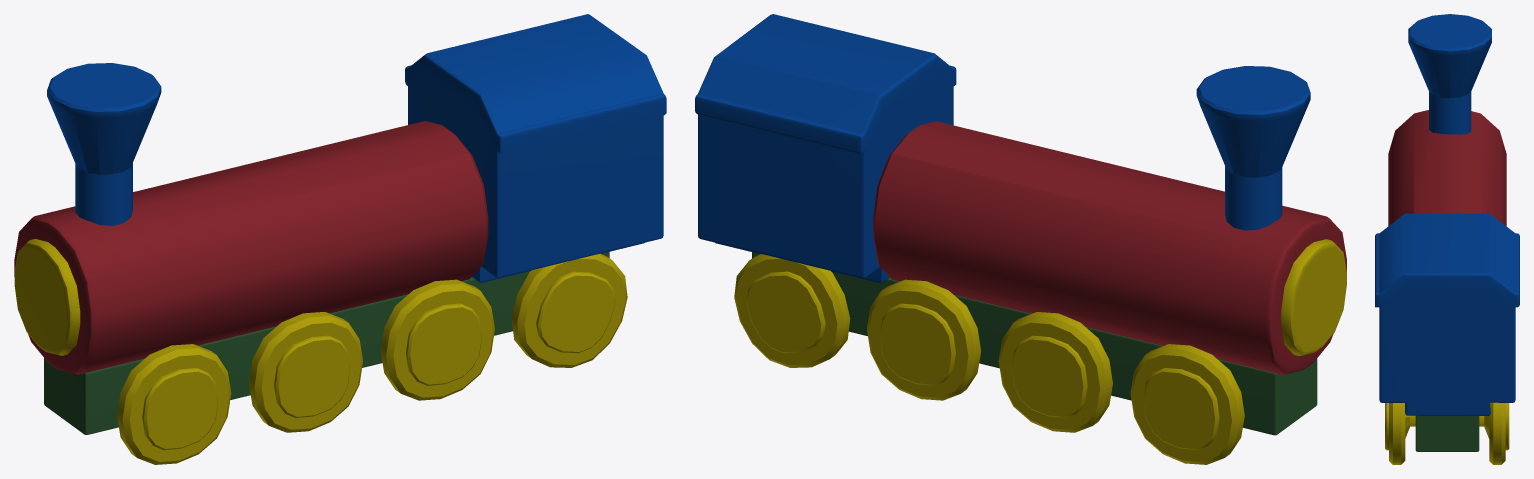
Rendered from toy_train.fbx.
3 renders of one model, left to right at view 1: azimuth 30°, elevation 25°; view 2: azimuth 150°, elevation 25°; view 3: azimuth 270°, elevation 25°, orthographic. The views are drawn at different scales.
Parts seen in each view (by area): view 1: pCylinder34, pCube334, pCube335, pCube333, pCube336; view 2: pCylinder34, pCube334, pCube333, pCube335, pCube336; view 3: pCylinder34, pCube336.
Boxes of the visible parts, <box> form: pCylinder34: <box>14,14,666,434</box>; pCube334: <box>249,312,362,432</box>; pCube335: <box>380,279,494,400</box>; pCube333: <box>117,344,231,464</box>; pCube336: <box>511,253,627,367</box>; pCylinder34: <box>695,14,1346,435</box>; pCube334: <box>998,312,1112,432</box>; pCube333: <box>1130,344,1244,464</box>; pCube335: <box>867,279,981,400</box>; pCube336: <box>734,254,850,367</box>; pCylinder34: <box>1375,14,1519,451</box>; pCube336: <box>1385,402,1509,464</box>.
Bounding box in the file's own units: 6.69 × 3.97 × 1.93.
